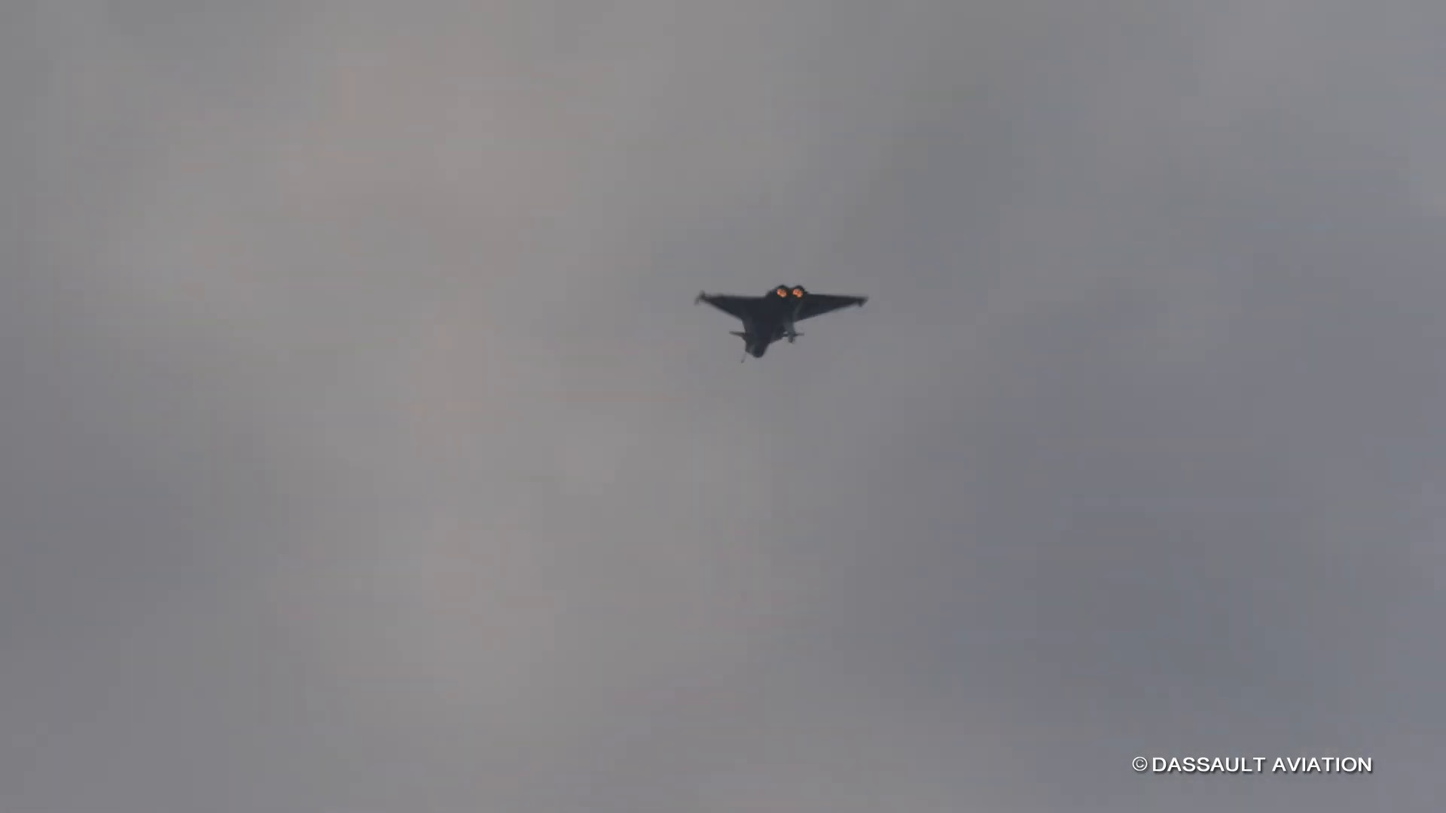Rafale: (695, 280, 869, 362)
